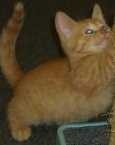Cat: (0, 2, 114, 140)
